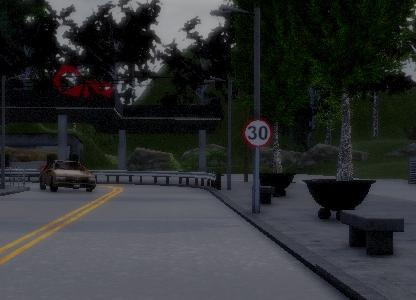Speed_30: (242, 116, 272, 150)
